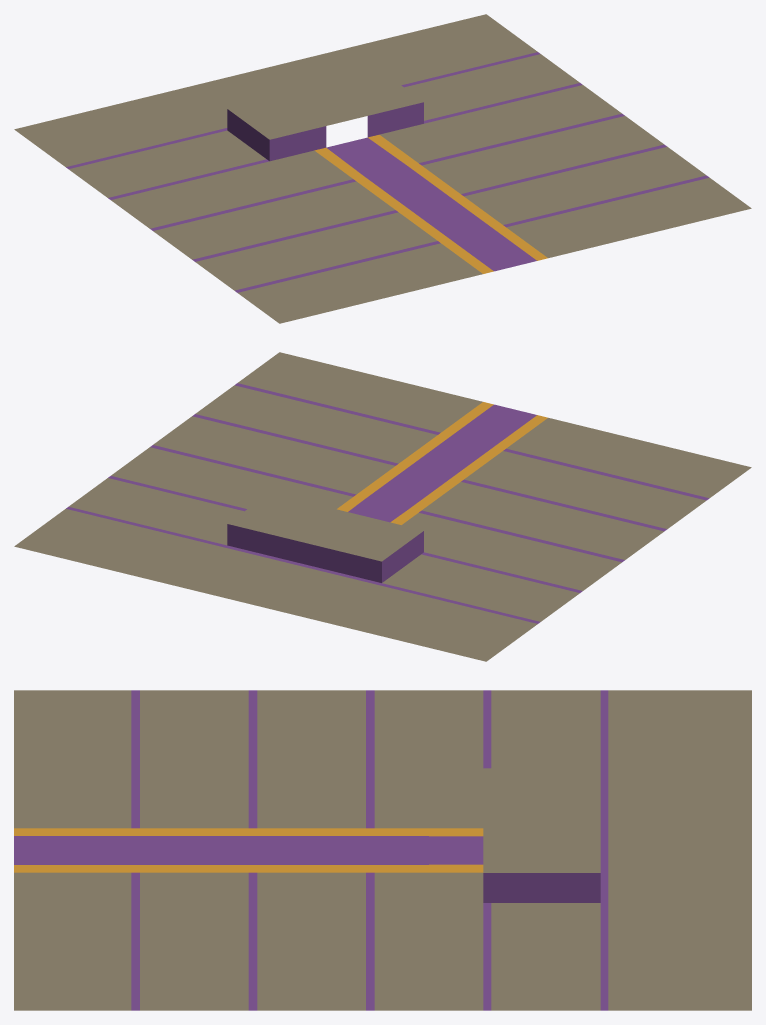
Rendered from FloorAndStage.fbx.
The picture shows the model from 3 angles, top to bottom: view 1: azimuth 30°, elevation 25°; view 2: azimuth 150°, elevation 25°; view 3: azimuth 270°, elevation 25°; orthographic projection. The views are drawn at different scales.
Parts seen in each view (by area): view 1: Floor, FloorPurpleAccents, FloorGoldenTrim; view 2: Floor, FloorPurpleAccents, FloorGoldenTrim; view 3: Floor, FloorPurpleAccents, FloorGoldenTrim.
Boxes of the visible parts, left/top/right/bottom form: Floor: left=14, top=14, right=751, bottom=323; FloorPurpleAccents: left=66, top=52, right=709, bottom=292; FloorGoldenTrim: left=314, top=134, right=547, bottom=273; Floor: left=14, top=352, right=751, bottom=661; FloorPurpleAccents: left=66, top=383, right=709, bottom=623; FloorGoldenTrim: left=337, top=402, right=547, bottom=524; Floor: left=14, top=690, right=751, bottom=1010; FloorPurpleAccents: left=14, top=690, right=608, bottom=1010; FloorGoldenTrim: left=14, top=828, right=483, bottom=872.
Size of the model in its own units: 194 by 8.45 by 189.
